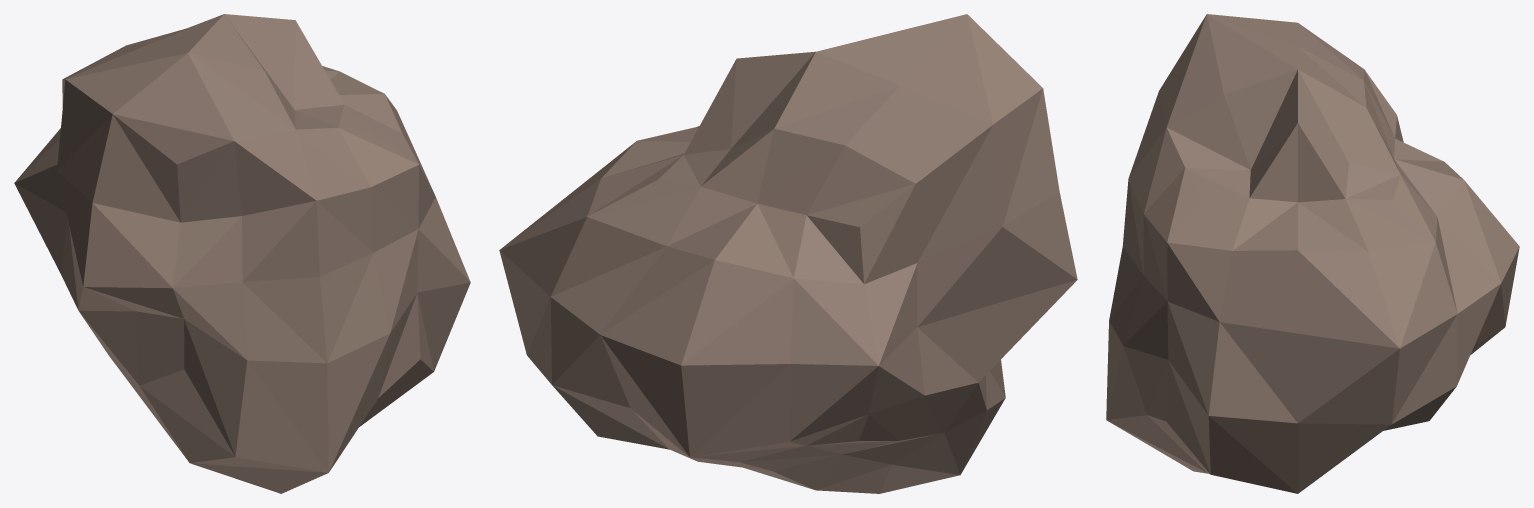
Rendered from asteroidA.obj.
3 views of the same model, side by side, from view 1: azimuth 30°, elevation 25°; view 2: azimuth 150°, elevation 25°; view 3: azimuth 270°, elevation 25° (orthographic). The views are drawn at different scales.
Parts seen in each view (by area): view 1: Cube; view 2: Cube; view 3: Cube.
Boxes of the visible parts, bbox=[...] form: Cube: bbox=[14, 14, 470, 493]; Cube: bbox=[499, 14, 1077, 493]; Cube: bbox=[1106, 14, 1519, 493].
Size of the model in its own units: 10.2 by 10.69 by 9.56.
